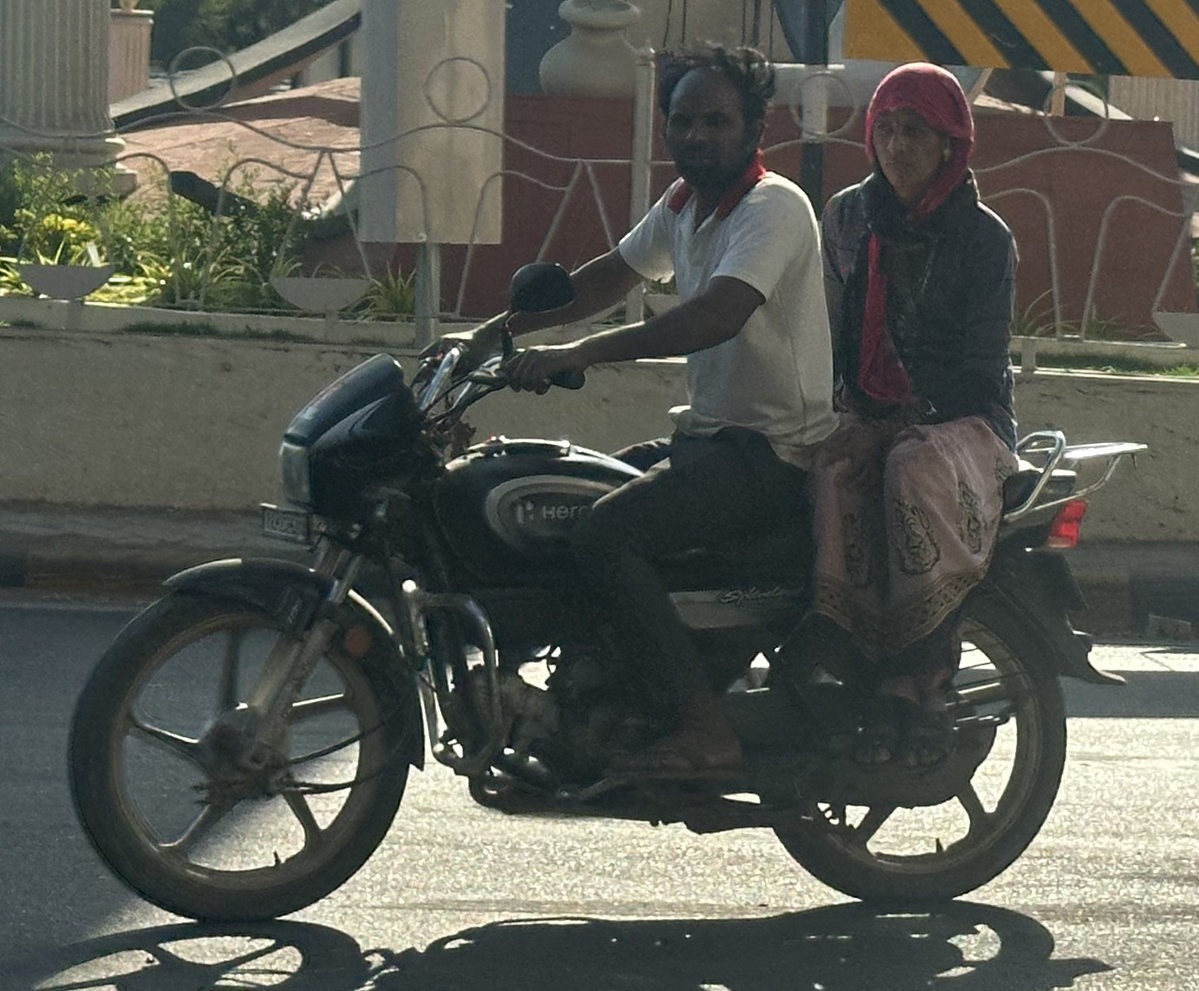BikeWithRider: (59, 43, 1156, 928)
NoHelmet: (649, 45, 774, 200), (859, 60, 976, 215)
